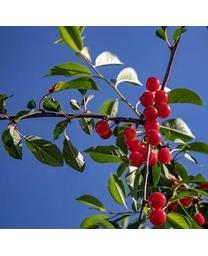cherry: (147, 192, 166, 209), (148, 210, 167, 224), (156, 103, 170, 118), (147, 77, 160, 92), (95, 120, 110, 133), (145, 151, 158, 166), (144, 105, 158, 118), (158, 147, 170, 161), (121, 128, 135, 140), (141, 92, 154, 104), (156, 90, 168, 103), (146, 119, 159, 131), (148, 132, 160, 145), (128, 138, 139, 150), (131, 152, 143, 163), (139, 146, 148, 156), (103, 127, 110, 139)
